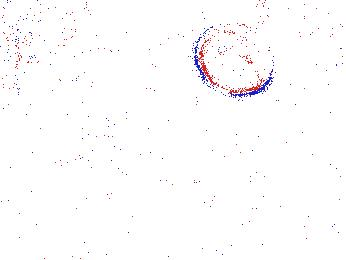moon jellyfish: (1, 1, 101, 64), (196, 23, 273, 96), (259, 1, 346, 65)
